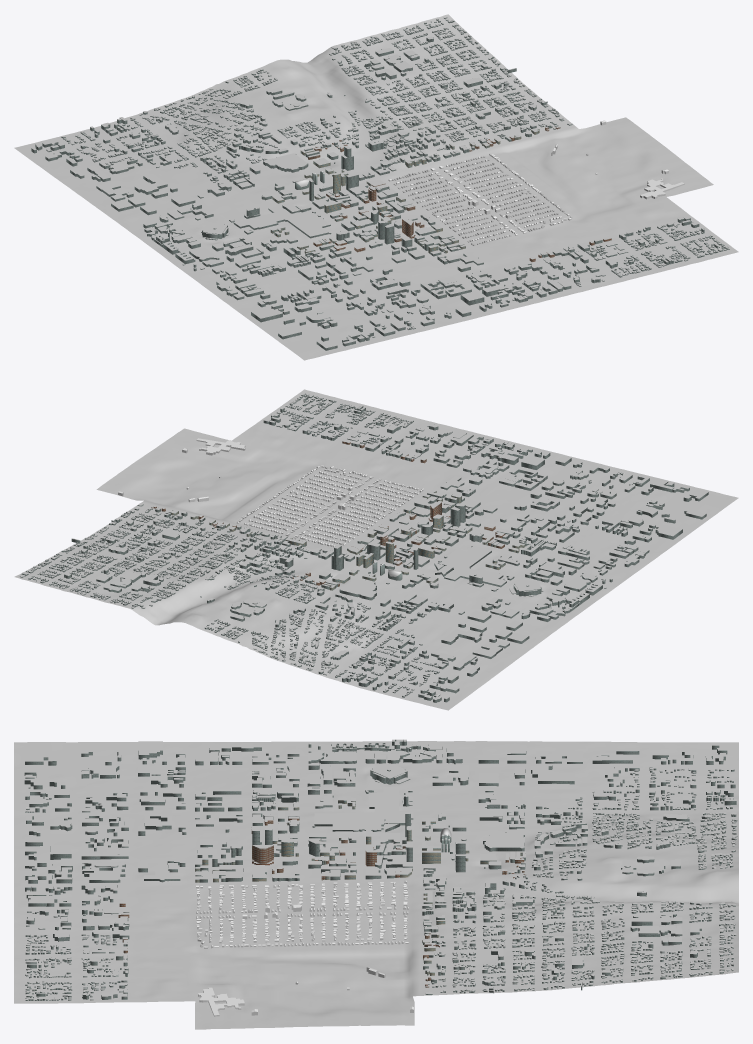
The model's file is CapstoneMapWithSuburbs.fbx.
3 renders of one model, top to bottom at view 1: azimuth 30°, elevation 25°; view 2: azimuth 150°, elevation 25°; view 3: azimuth 270°, elevation 25°, orthographic. The views are drawn at different scales.
Visible parts, largest first — view 1: Terrain.001, map_4.osm_buildings, map_4.osm_buildings.001, map_12.osm_buildings; view 2: Terrain.001, map_4.osm_buildings, map_4.osm_buildings.001, map_12.osm_buildings; view 3: Terrain.001, map_4.osm_buildings.001, map_4.osm_buildings, map_12.osm_buildings.
Part boxes in pixels (box(x1,y1,x2,y2)): Terrain.001: box(14, 14, 738, 360); map_4.osm_buildings: box(31, 17, 729, 350); map_4.osm_buildings.001: box(31, 17, 728, 348); map_12.osm_buildings: box(388, 120, 684, 245); Terrain.001: box(14, 389, 738, 710); map_4.osm_buildings: box(20, 393, 708, 702); map_4.osm_buildings.001: box(20, 393, 707, 699); map_12.osm_buildings: box(118, 438, 423, 547); Terrain.001: box(14, 741, 738, 1029); map_4.osm_buildings.001: box(24, 739, 737, 999); map_4.osm_buildings: box(24, 740, 737, 1000); map_12.osm_buildings: box(196, 880, 413, 1016).
Bounding box in the file's own units: 296308 × 16400 × 309233.
